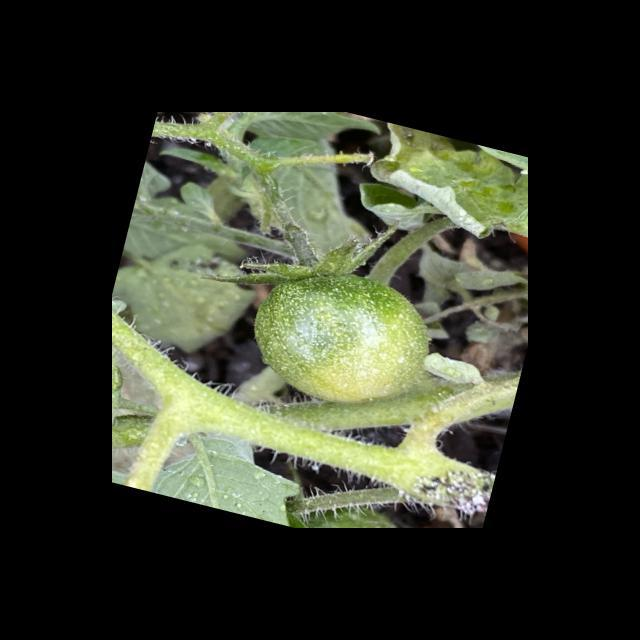tomato: (238, 252, 444, 424)
